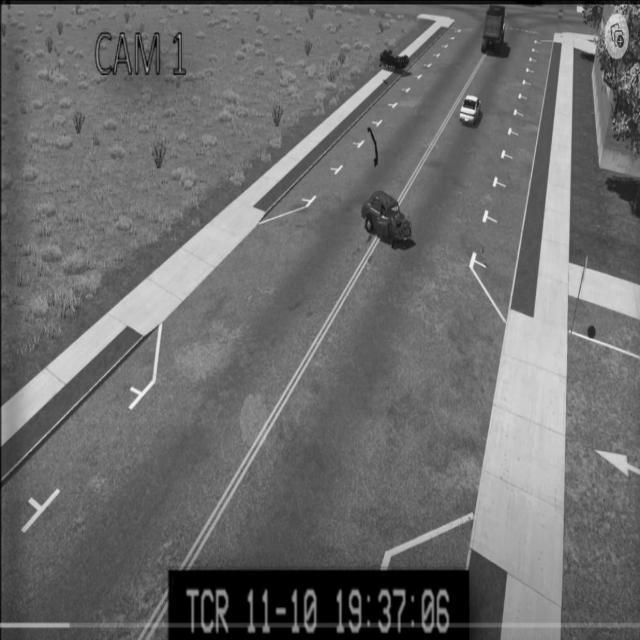accident: (360, 189, 414, 248), (380, 44, 412, 78)
vehicle: (480, 7, 504, 54), (460, 92, 480, 126)
